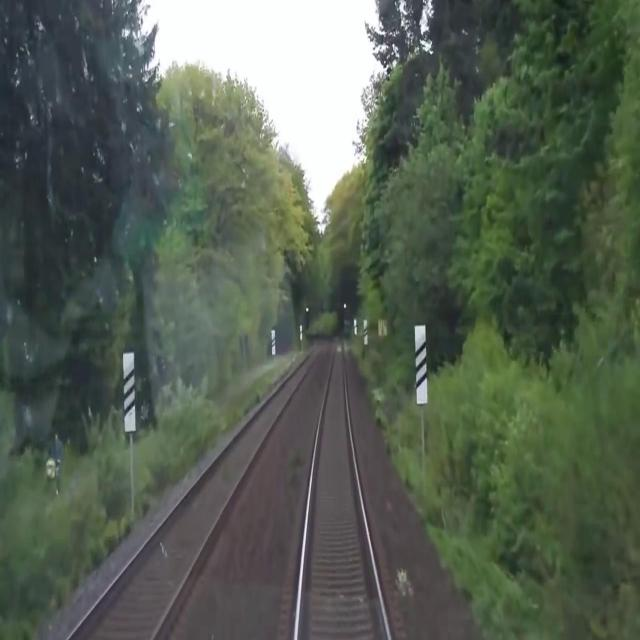rail-track: (72, 343, 322, 639), (299, 344, 386, 639)
